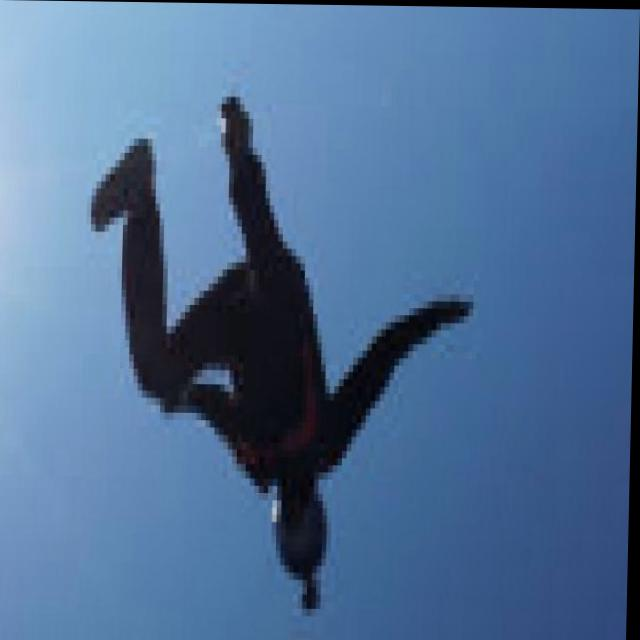fall: (75, 92, 479, 623)
